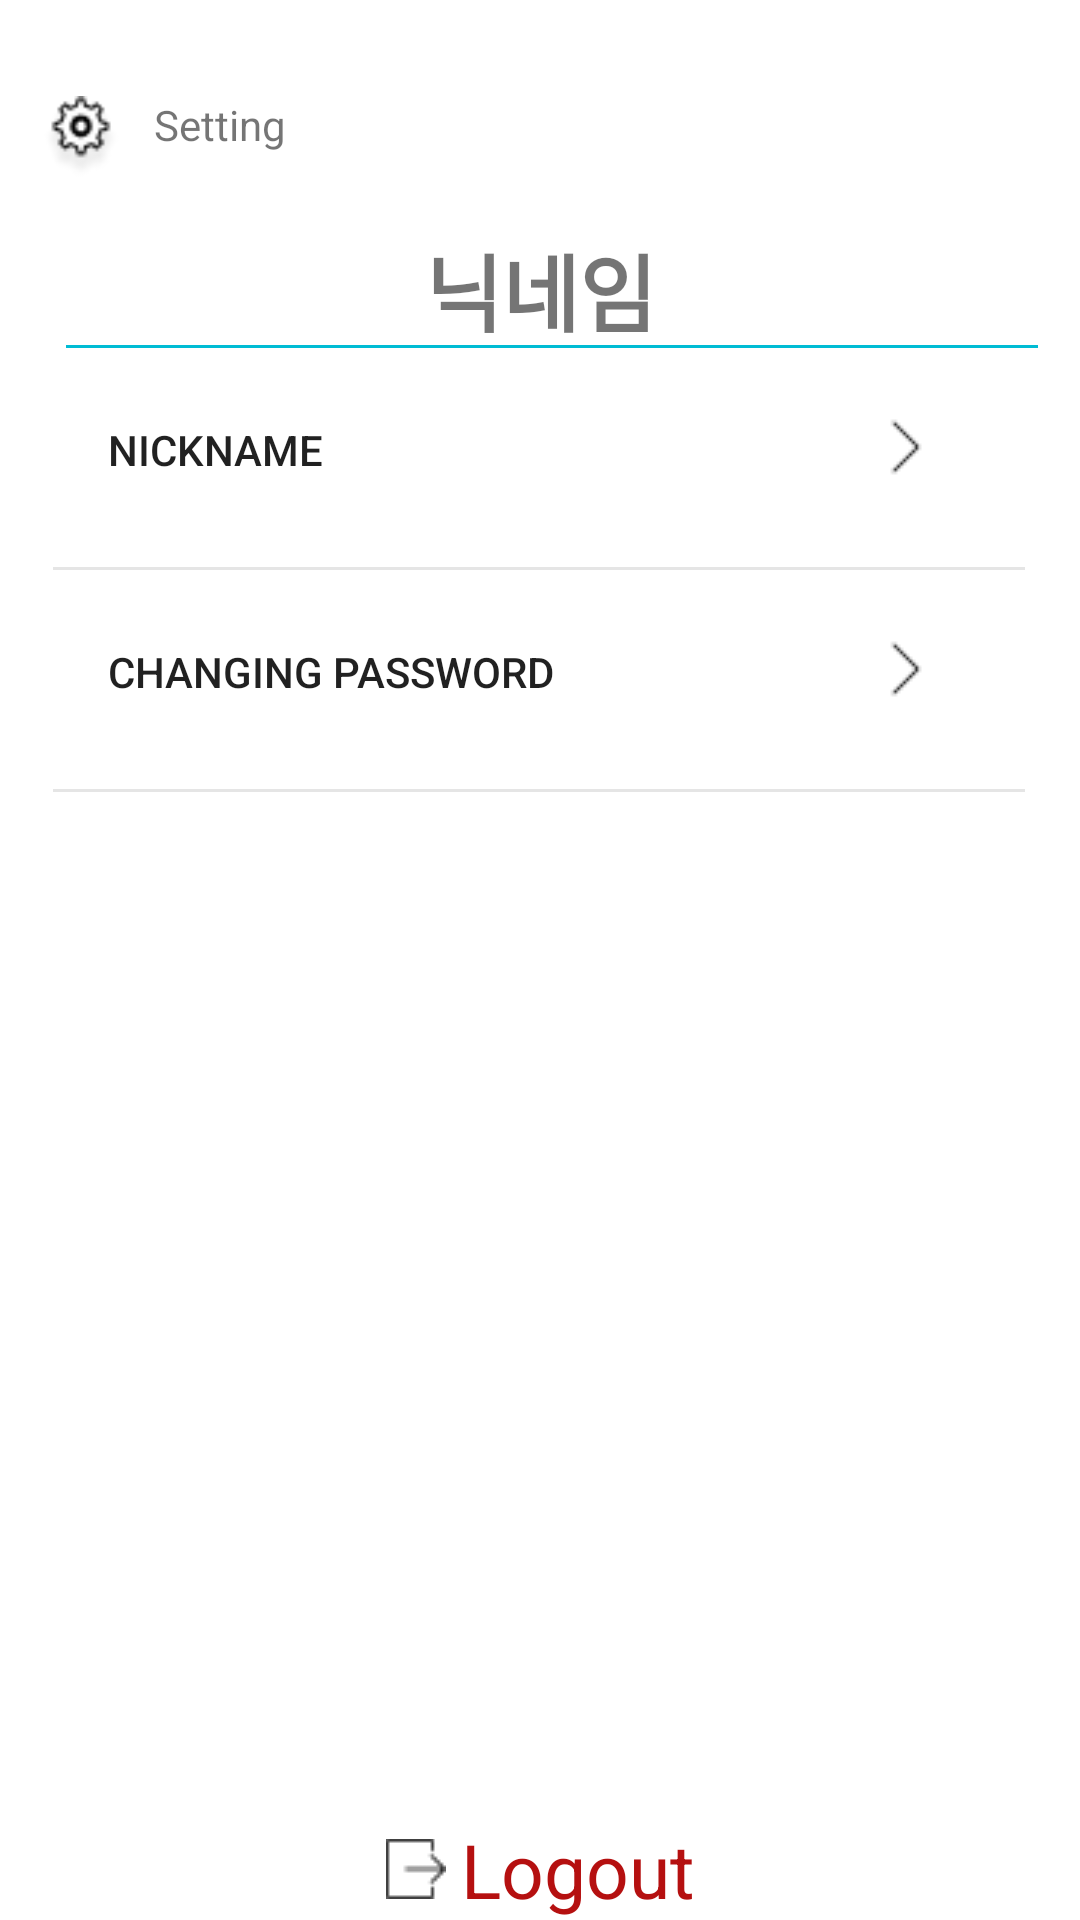

Icon bounding boxes for this 1080px x 1920px phone screenshot, format (x1, y1, x2, y2):
rightvector: (891, 421, 921, 473), (891, 643, 921, 695)
